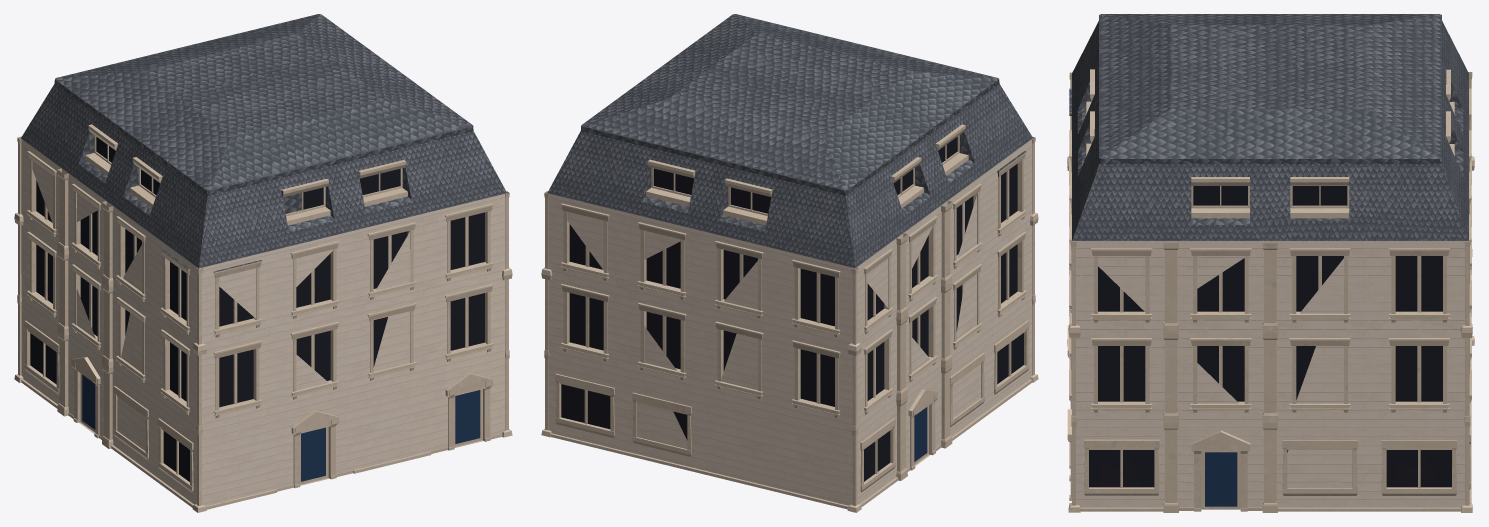
Rendered from TESTHAUSMANN1.fbx.
The picture shows the model from 3 angles, left to right: view 1: azimuth 30°, elevation 25°; view 2: azimuth 150°, elevation 25°; view 3: azimuth 270°, elevation 25°; orthographic projection. The views are drawn at different scales.
Visible parts, largest first — view 1: Hausmann1_RETOPO; view 2: Hausmann1_RETOPO; view 3: Hausmann1_RETOPO.
Boxes of the visible parts, <box> form: Hausmann1_RETOPO: <box>14,14,512,512</box>; Hausmann1_RETOPO: <box>541,14,1038,512</box>; Hausmann1_RETOPO: <box>1067,14,1474,512</box>.
Size of the model in its own units: 1235 by 1201 by 1232.
